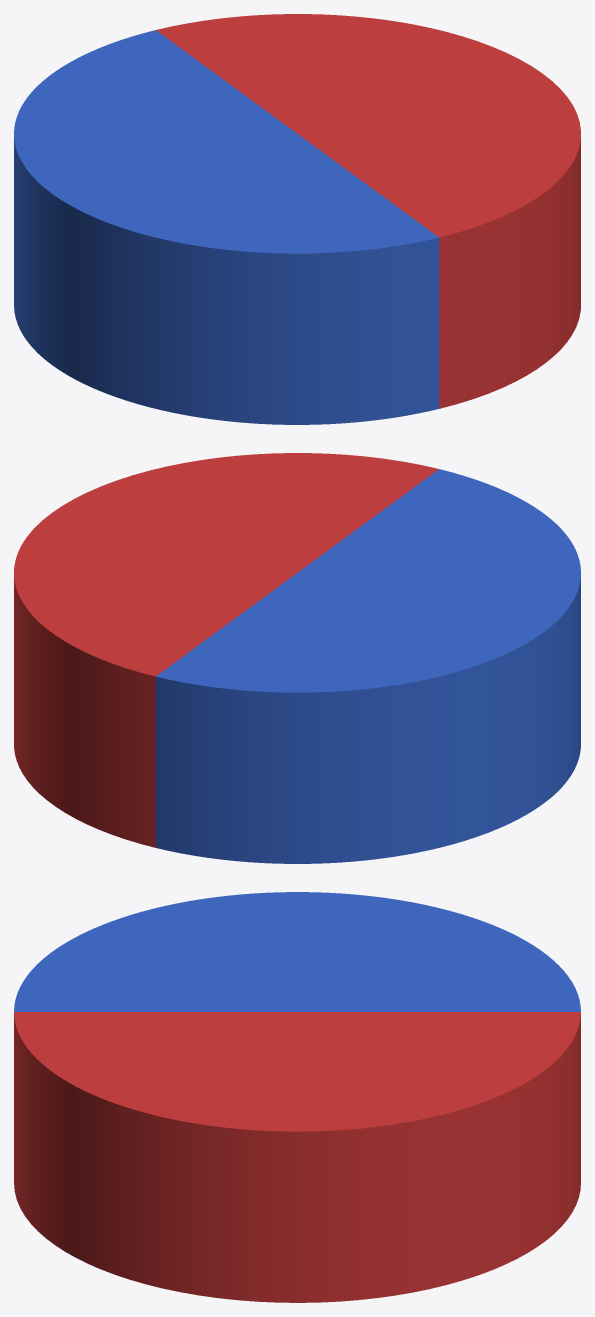
File: magnet_d3x1_diametric.glb
The picture shows the model from 3 angles, top to bottom: view 1: azimuth 30°, elevation 25°; view 2: azimuth 150°, elevation 25°; view 3: azimuth 270°, elevation 25°; orthographic projection.
Parts seen in each view (by area): view 1: S_half, N_half; view 2: S_half, N_half; view 3: N_half, S_half.
Part boxes in pixels (x1,y1,x2,y2): S_half: (14, 30, 439, 424); N_half: (156, 14, 580, 408); S_half: (155, 469, 580, 863); N_half: (14, 453, 438, 847); N_half: (14, 1012, 580, 1302); S_half: (14, 892, 580, 1011).
Size of the model in its own units: 0.003 by 0.001 by 0.003.
